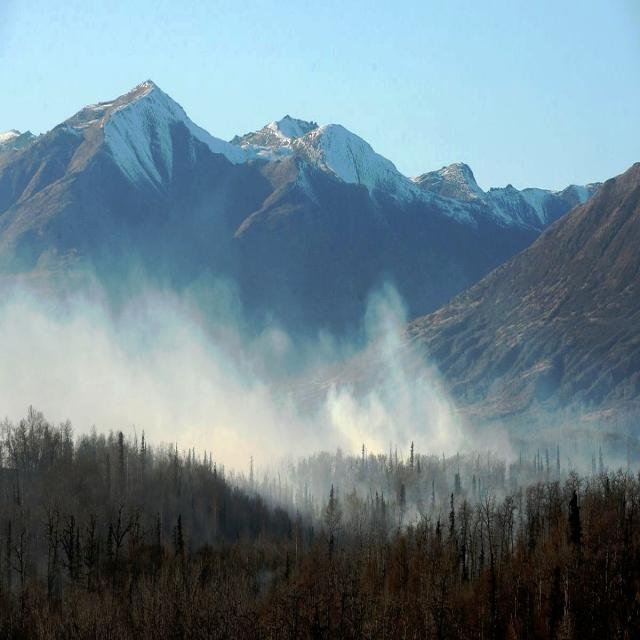asap: (1, 252, 526, 470)
